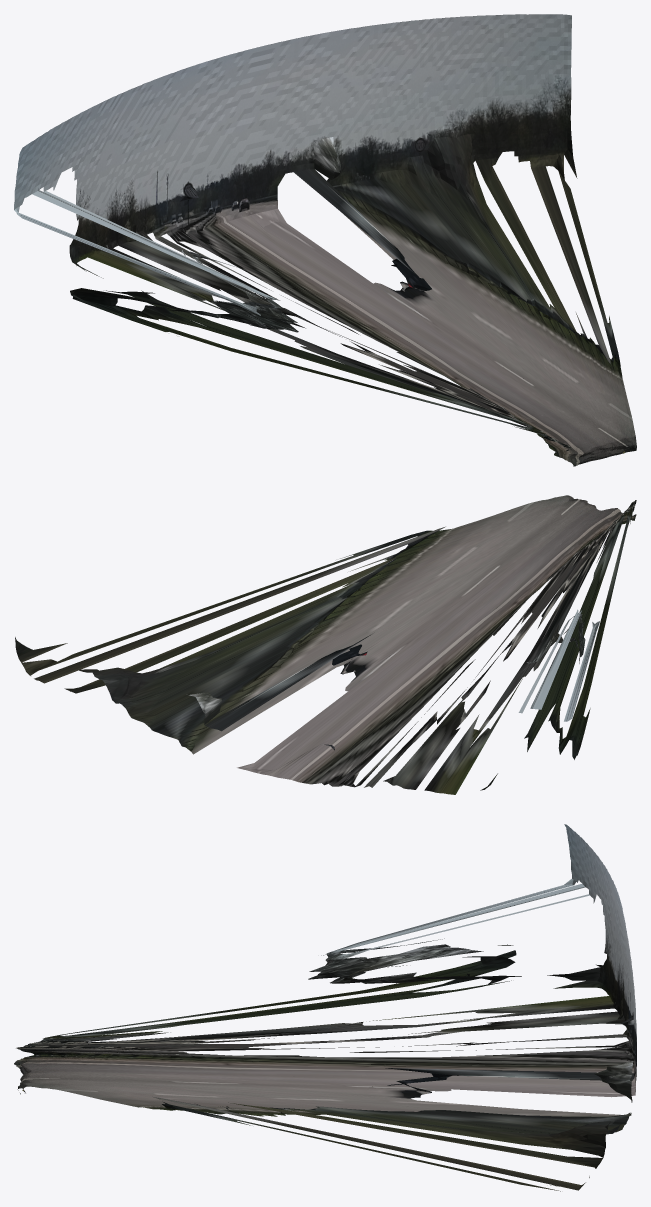
3 views of the same model, one above another, from view 1: azimuth 30°, elevation 25°; view 2: azimuth 150°, elevation 25°; view 3: azimuth 270°, elevation 25° (orthographic). The views are drawn at different scales.
Parts seen in each view (by area): view 1: defaultobject; view 2: defaultobject; view 3: defaultobject.
Boxes of the visible parts, bbox=[...] form: defaultobject: bbox=[14, 14, 636, 466]; defaultobject: bbox=[15, 495, 636, 794]; defaultobject: bbox=[14, 824, 636, 1191].
Bounding box in the file's own units: 41.03 × 12.41 × 44.58.
1 material, 1 textured.
